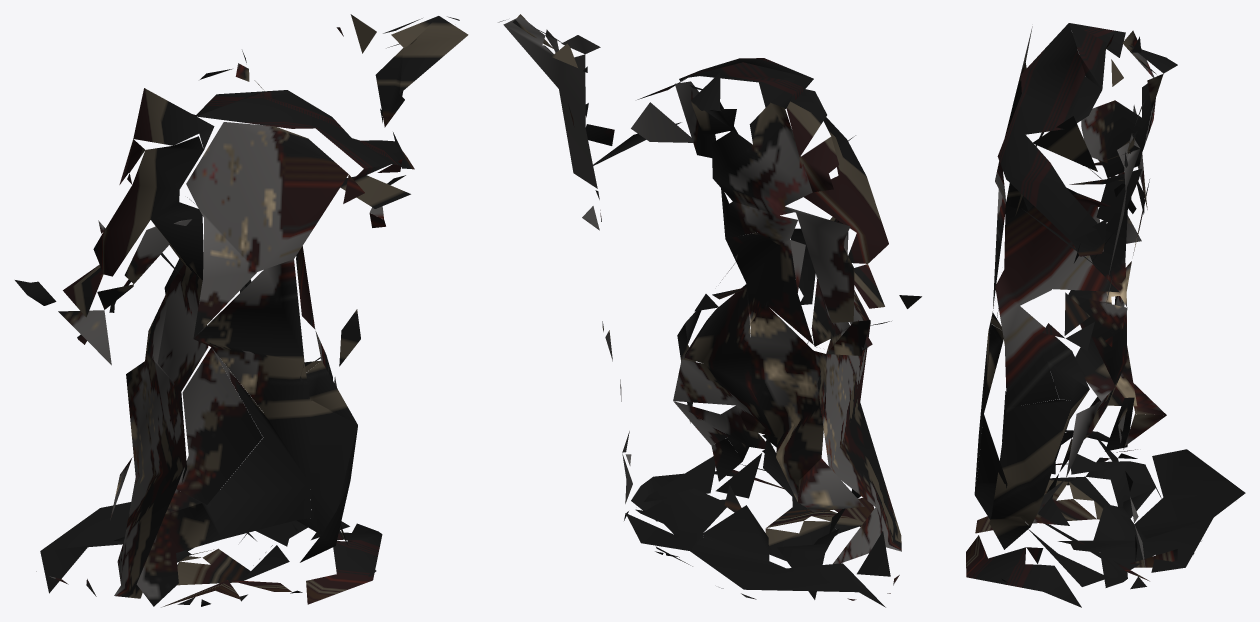
The picture shows the model from 3 angles, left to right: view 1: azimuth 30°, elevation 25°; view 2: azimuth 150°, elevation 25°; view 3: azimuth 270°, elevation 25°; orthographic projection. The views are drawn at different scales.
Visible parts, largest first — view 1: body.002; view 2: body.002; view 3: body.002.
Boxes of the visible parts, x1=… form: body.002: x1=15, y1=14, x2=468, y2=607; body.002: x1=498, y1=14, x2=921, y2=607; body.002: x1=966, y1=23, x2=1245, y2=607.
Size of the model in its own units: 1.84 by 2.04 by 1.02.
Materials: 1 (1 with a texture image).
